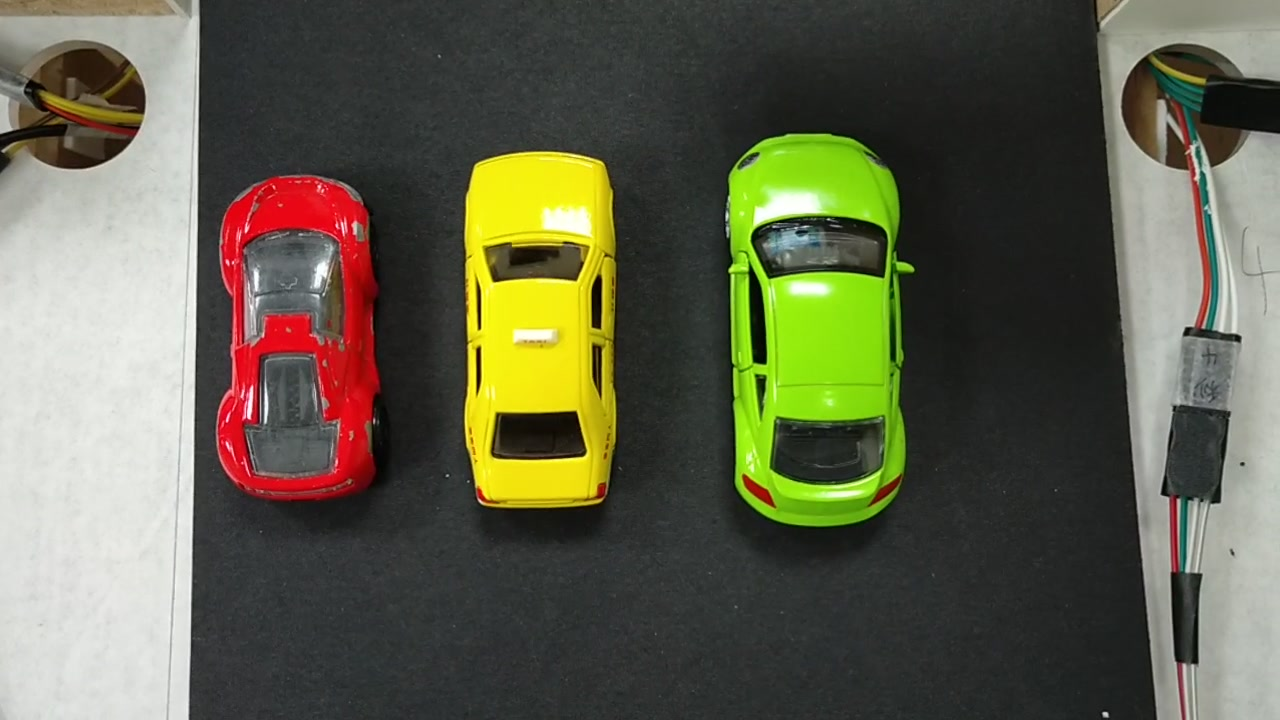car: (735, 129, 911, 520), (213, 181, 377, 498), (470, 152, 612, 511)
